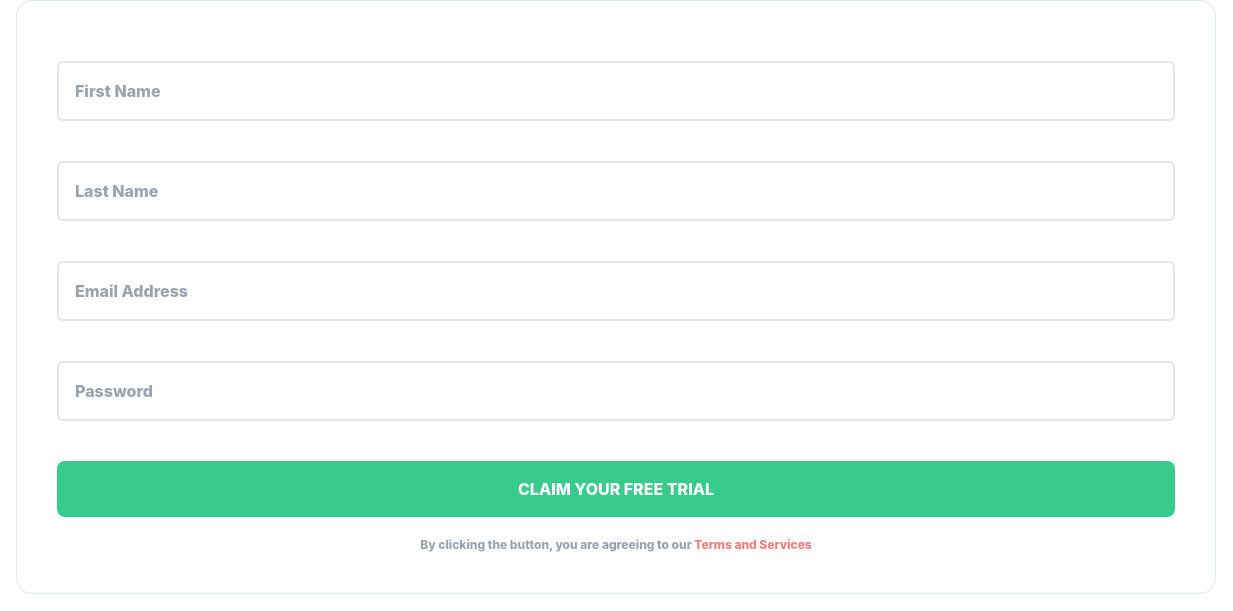
Test: SignupForm › Form displays errors and button is disabled if button is clicked without touching input fields
Click the button "Claim your free trial" at (616, 489), box [57,461,1175,517]
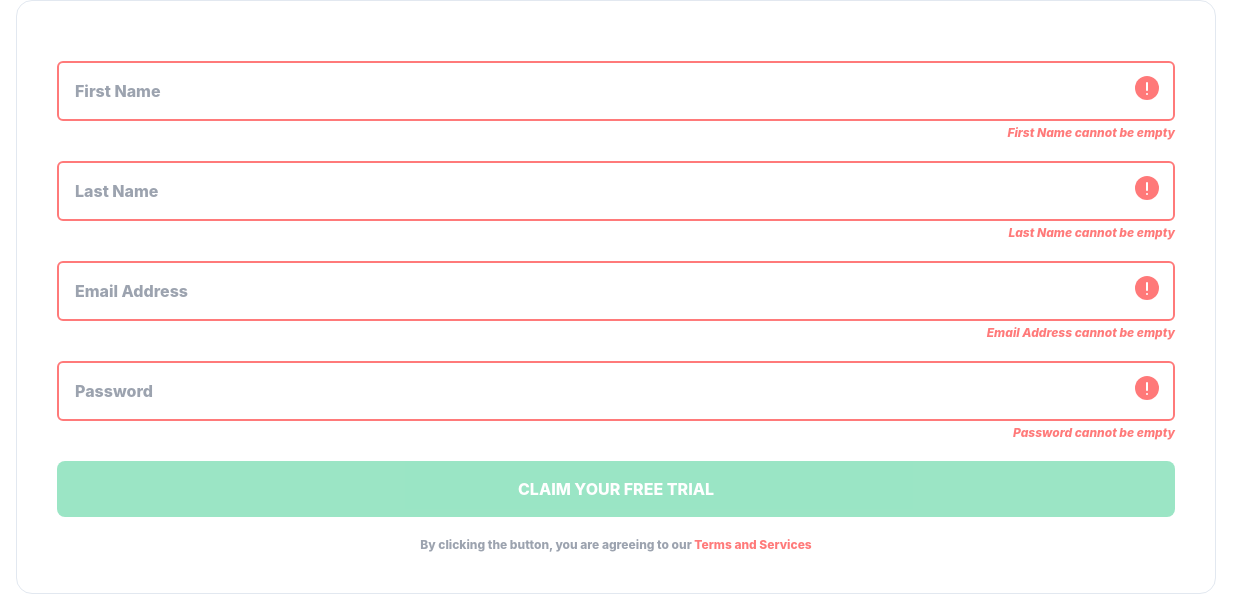
Expected: the text "First Name cannot be empty" is shown, [1007,125,1175,140]
Expected: the text "Last Name cannot be empty" is shown, [1008,225,1175,240]
Expected: the text "Email Address cannot be empty" is shown, [987,325,1175,340]
